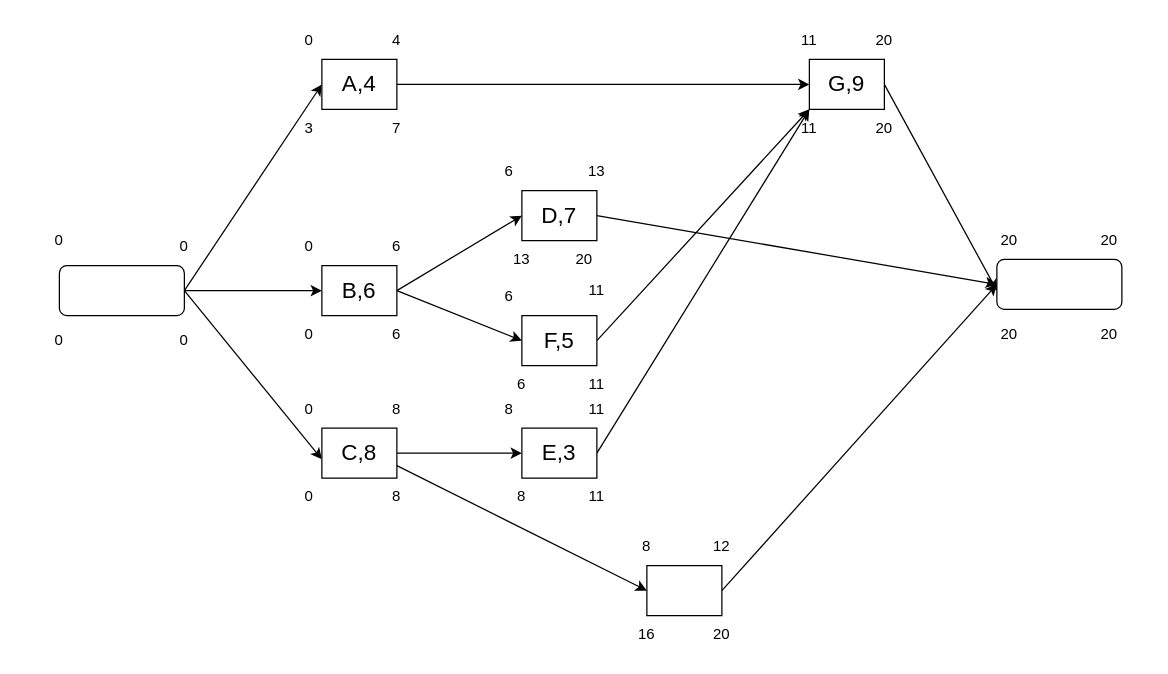
The diagram is 1168 pixels wide and 674 high, and some of its shapes have lost their labels. Here are the shapes that lost their labels. From the top down, the centre of each, then its label:
At point 121,290: "Bắt đầu".
At point 1059,283: "Kết thúc".
At point 684,590: "H,4".
